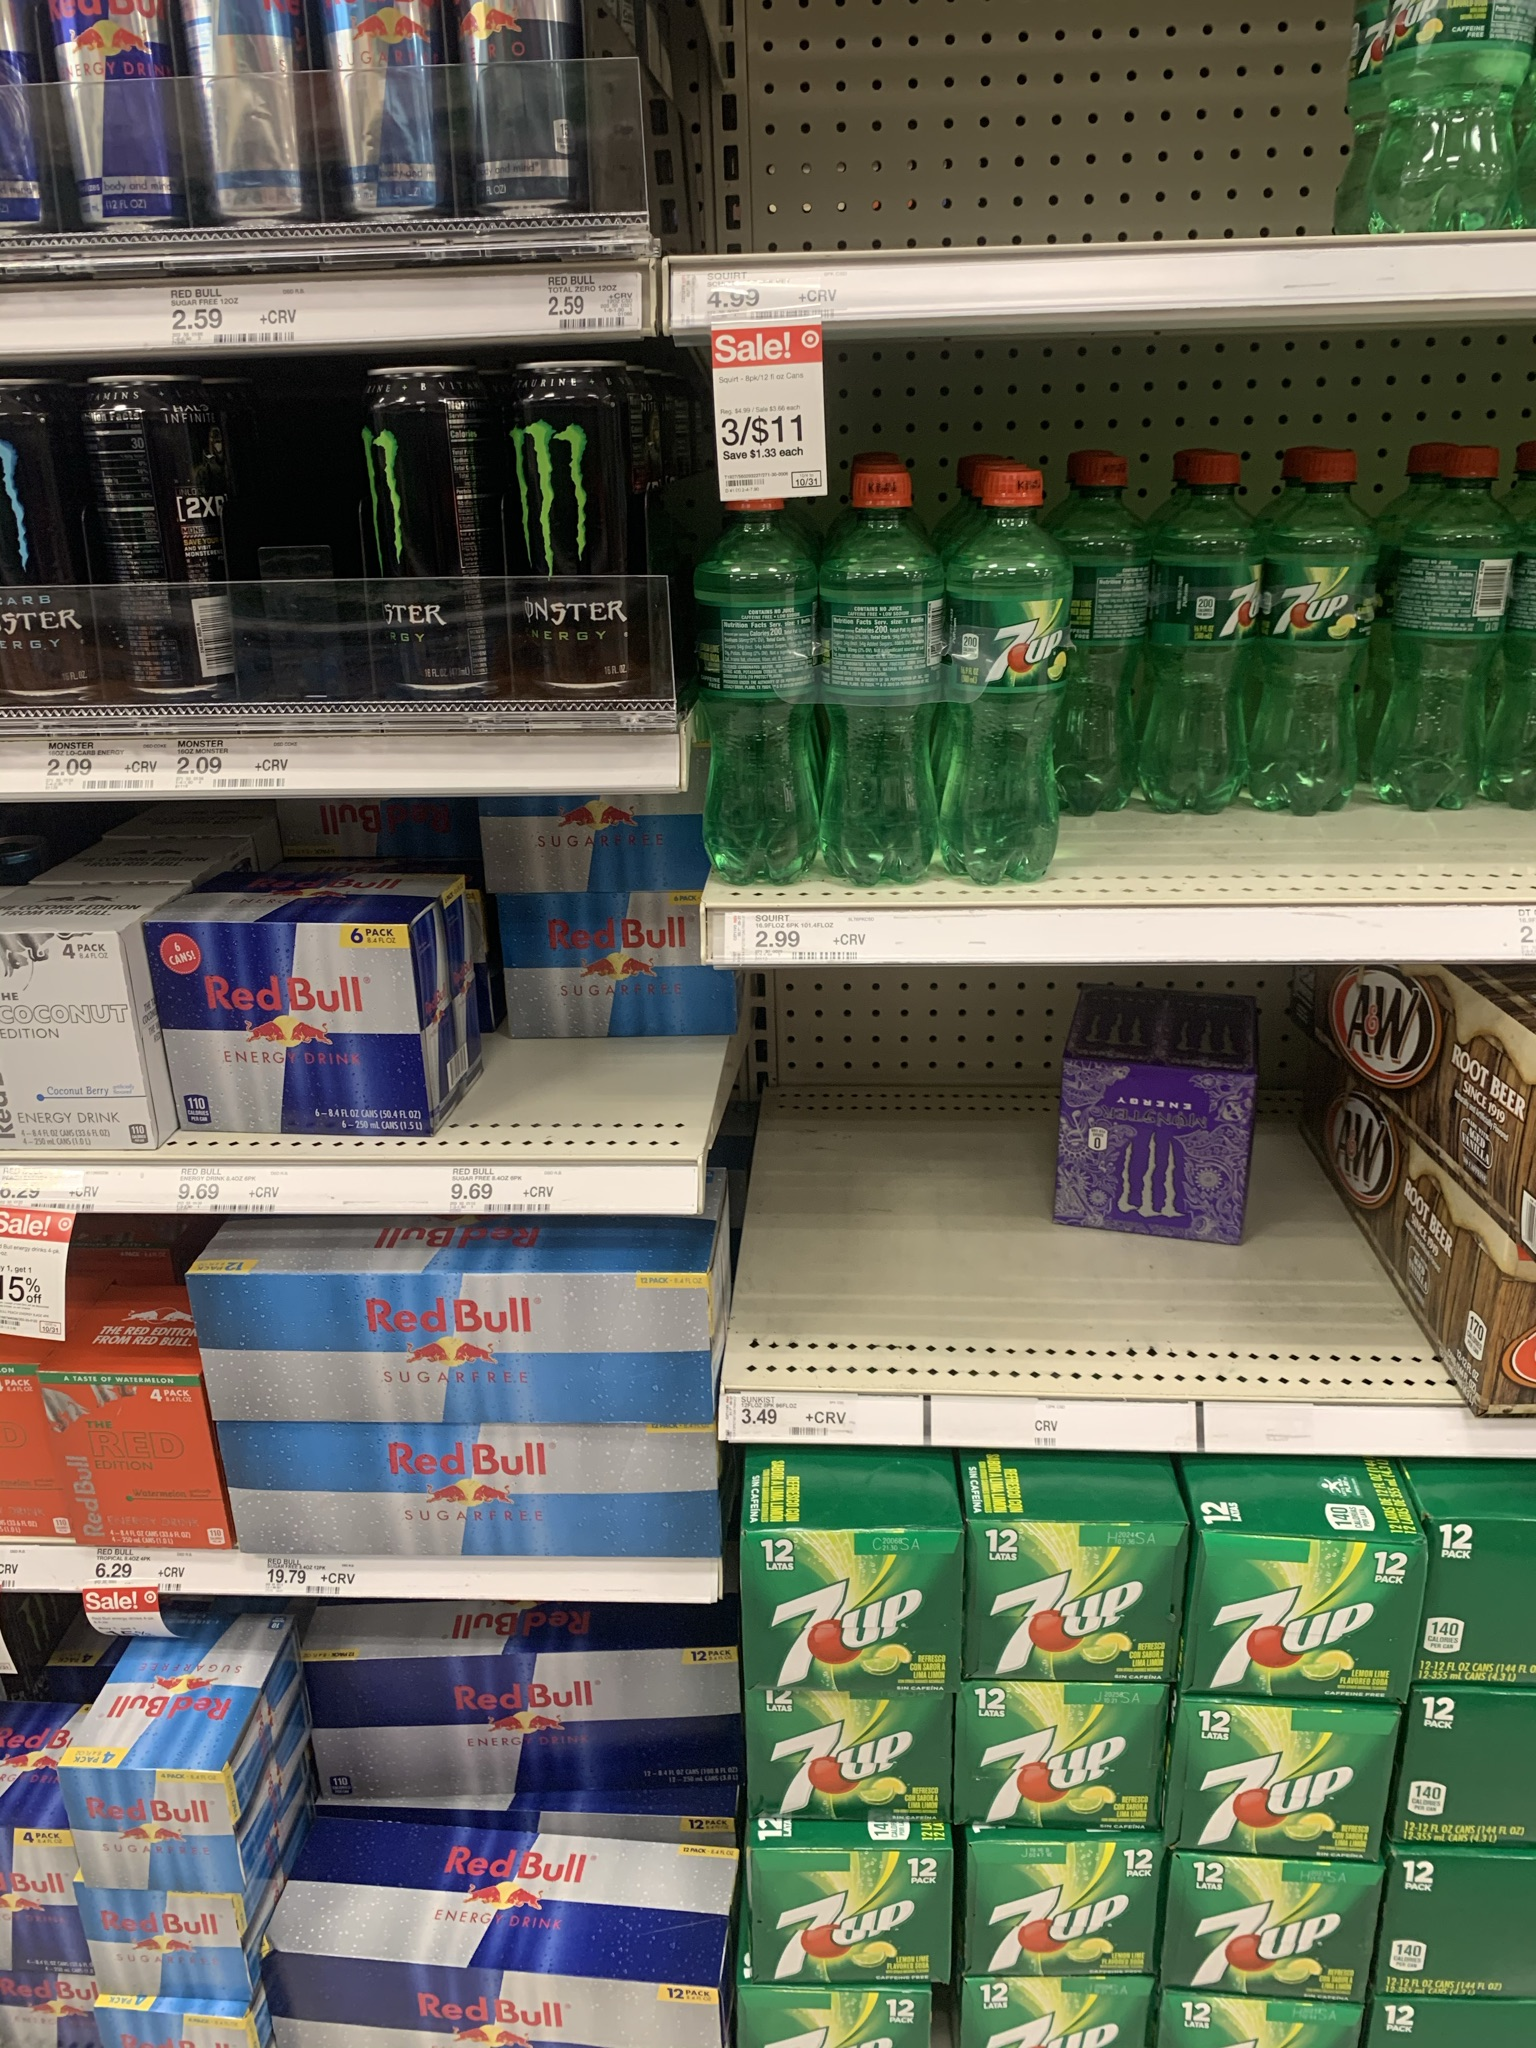7up soda: (729, 493, 828, 906), (847, 479, 947, 869), (1194, 1529, 1399, 1714), (970, 476, 1057, 856), (1276, 455, 1375, 785), (1183, 1714, 1384, 1875), (1163, 464, 1257, 806), (971, 1514, 1163, 1674), (1421, 456, 1504, 810), (757, 1546, 939, 1700), (971, 1692, 1154, 1838), (753, 1724, 937, 1851), (1183, 1879, 1359, 1995), (975, 1866, 1142, 1979), (1084, 464, 1142, 769), (752, 1866, 916, 1966)
monster energy drink: (382, 379, 516, 666), (523, 389, 637, 674)
redbull soda: (184, 1266, 724, 1584), (311, 1804, 728, 2048), (144, 914, 444, 1130), (303, 1655, 766, 1788), (77, 1775, 239, 1911)
